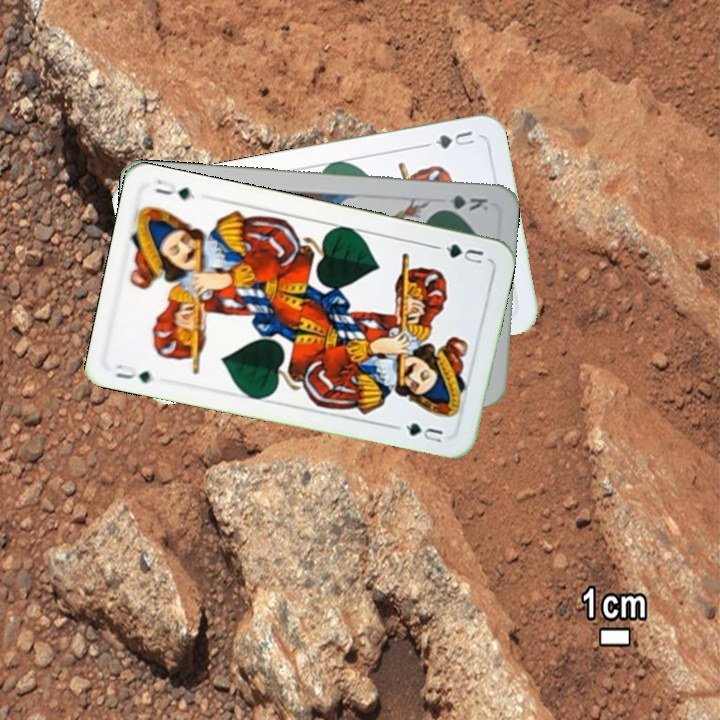GK: (434, 191, 491, 214)
GU: (421, 126, 477, 152), (111, 360, 158, 386), (441, 240, 486, 267)
